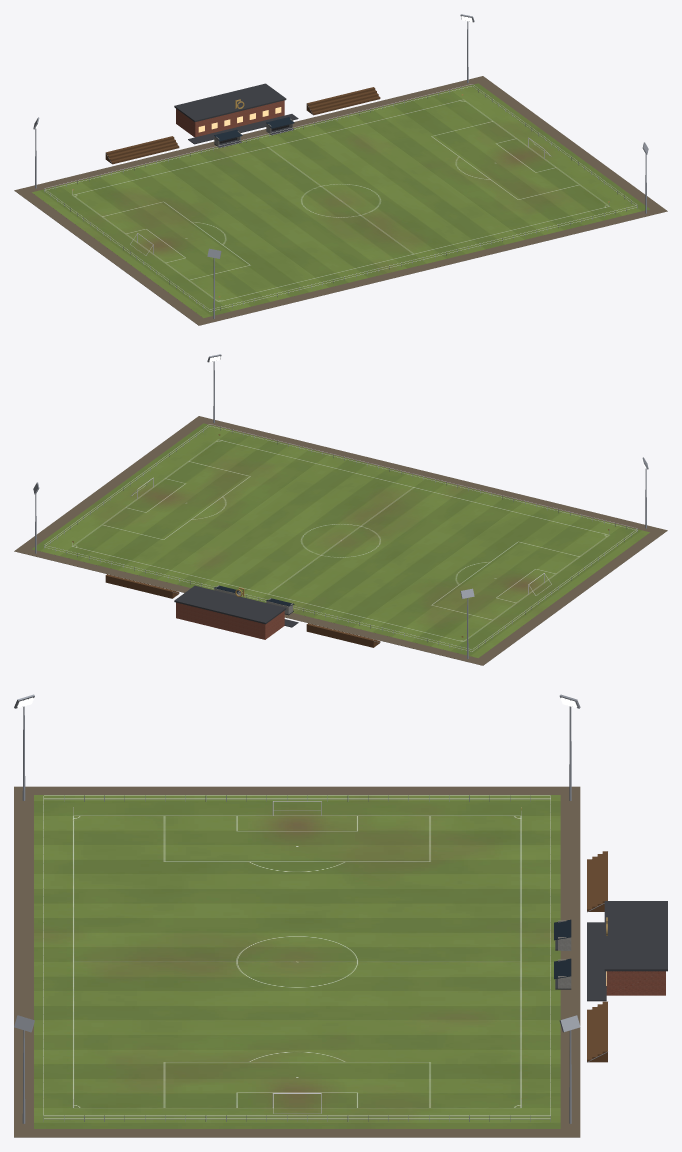
The model's file is terrain_L1.glb.
3 renders of one model, top to bottom at view 1: azimuth 30°, elevation 25°; view 2: azimuth 150°, elevation 25°; view 3: azimuth 270°, elevation 25°, orthographic. The views are drawn at different scales.
Parts seen in each view (by area): view 1: pitch_L1_L1, gravel_L1, concrete_dark_L1, white_L1, wood_L1, brick_L1, steel_L1; view 2: pitch_L1_L1, gravel_L1, white_L1, concrete_dark_L1, brick_L1, wood_L1, steel_L1; view 3: pitch_L1_L1, gravel_L1, concrete_dark_L1, white_L1, wood_L1, steel_L1, brick_L1.
Boxes of the visible parts, x1,y1,x2,y2 form: pitch_L1_L1: (32,83,649,318); gravel_L1: (14,76,667,325); concrete_dark_L1: (174,83,298,147); white_L1: (44,84,637,311); wood_L1: (105,87,380,164); brick_L1: (176,100,284,137); steel_L1: (33,14,648,318); pitch_L1_L1: (32,423,649,658); gravel_L1: (14,416,667,665); white_L1: (44,424,637,651); concrete_dark_L1: (174,585,298,627); brick_L1: (176,602,284,639); wood_L1: (105,574,380,647); steel_L1: (33,354,648,658); pitch_L1_L1: (34,795,560,1128); gravel_L1: (14,786,580,1137); concrete_dark_L1: (555,901,667,1001); white_L1: (43,795,550,1119); wood_L1: (587,851,607,1062); steel_L1: (14,694,607,1123); brick_L1: (606,971,665,995).
Size of the model in its own units: 126 by 17.61 by 99.32.
13 materials, 4 textured.
